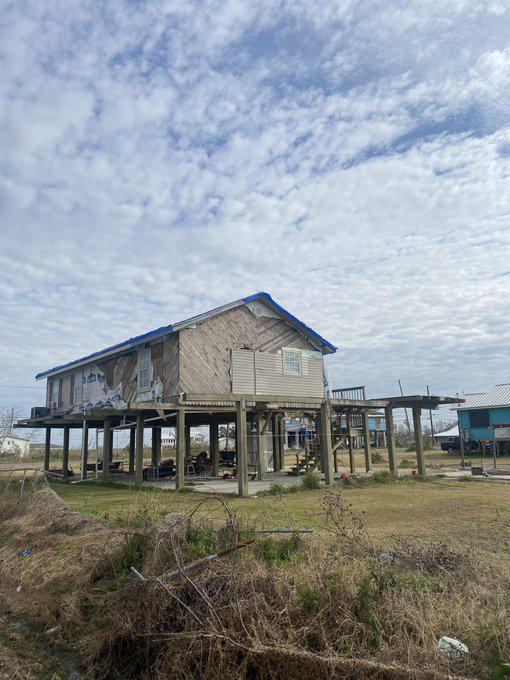major: (34, 278, 460, 501)
